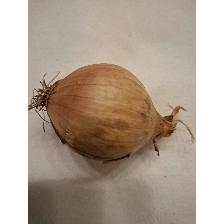Zwiebel: (30, 60, 196, 166)
